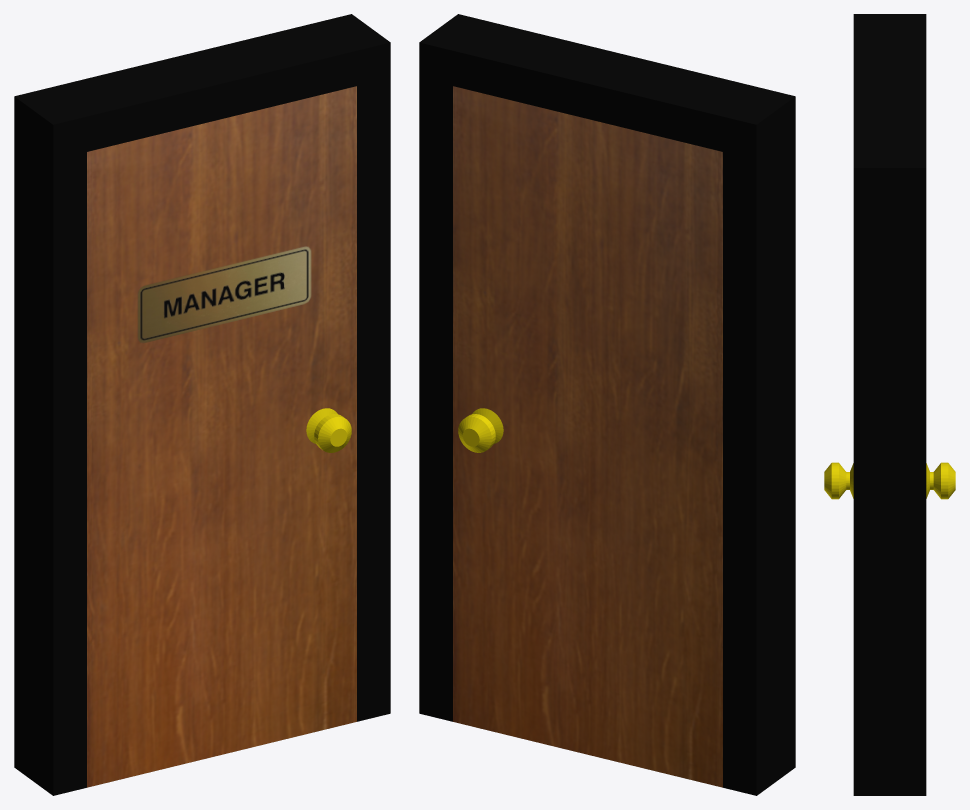
File: Door (Boss).fbx
The picture shows the model from 3 angles, left to right: view 1: azimuth 30°, elevation 25°; view 2: azimuth 150°, elevation 25°; view 3: azimuth 270°, elevation 25°; orthographic projection. The views are drawn at different scales.
Visible parts, largest first — view 1: Door, Frame, Knob (Left); view 2: Door, Frame, Knob (Right); view 3: Frame, Knob (Left), Knob (Right).
Boxes of the visible parts, x1=… form: Door: x1=87, y1=86, x2=356, y2=787; Frame: x1=14, y1=14, x2=390, y2=795; Knob (Left): x1=306, y1=408, x2=351, y2=452; Door: x1=453, y1=86, x2=722, y2=787; Frame: x1=419, y1=14, x2=795, y2=795; Knob (Right): x1=458, y1=408, x2=503, y2=452; Frame: x1=853, y1=14, x2=926, y2=795; Knob (Left): x1=824, y1=462, x2=853, y2=499; Knob (Right): x1=926, y1=462, x2=955, y2=499.
Size of the model in its own units: 500 by 950 by 180.
